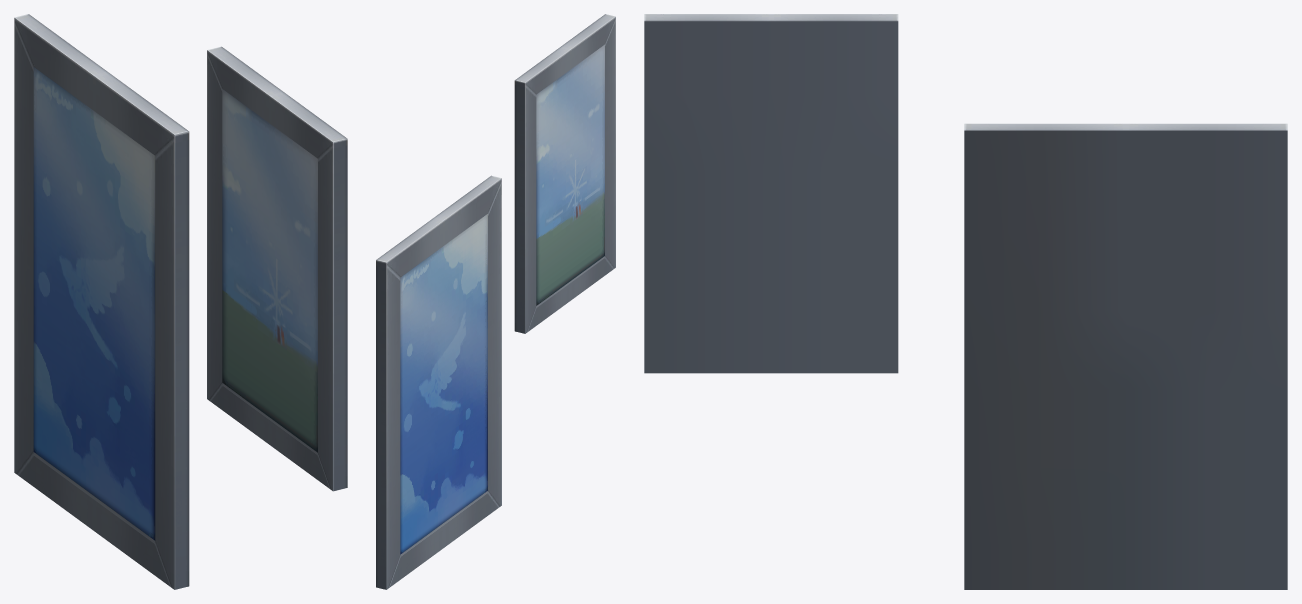
Rendered from my_gamedevdept_01_wallacc_07.glb.
3 views of the same model, side by side, from view 1: azimuth 30°, elevation 25°; view 2: azimuth 150°, elevation 25°; view 3: azimuth 270°, elevation 25° (orthographic). The views are drawn at different scales.
Parts seen in each view (by area): view 1: my_gamedevdept_01_wallacc_07; view 2: my_gamedevdept_01_wallacc_07; view 3: my_gamedevdept_01_wallacc_07.
Part boxes in pixels (box(x1,y1,x2,y2)): my_gamedevdept_01_wallacc_07: box(14, 14, 347, 589); my_gamedevdept_01_wallacc_07: box(376, 14, 615, 589); my_gamedevdept_01_wallacc_07: box(644, 14, 1287, 589).
Bounding box in the file's own units: 0.000216 × 0.00794 × 0.00814.
1 material, 1 textured.
